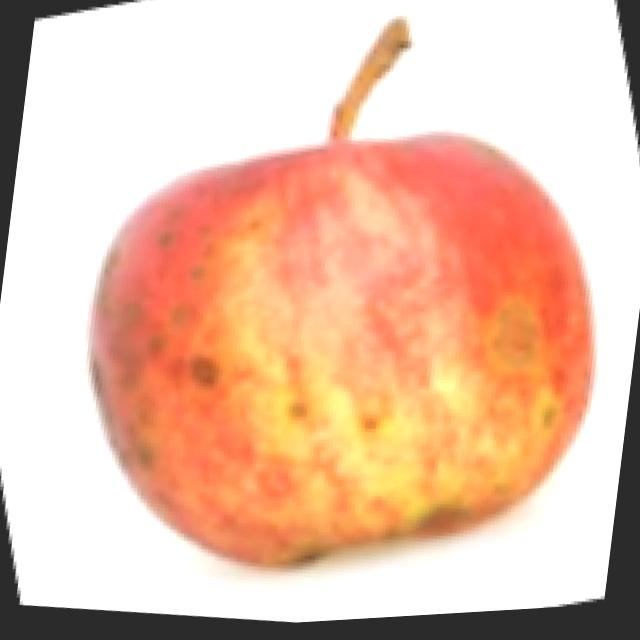organik: (0, 0, 640, 625)
